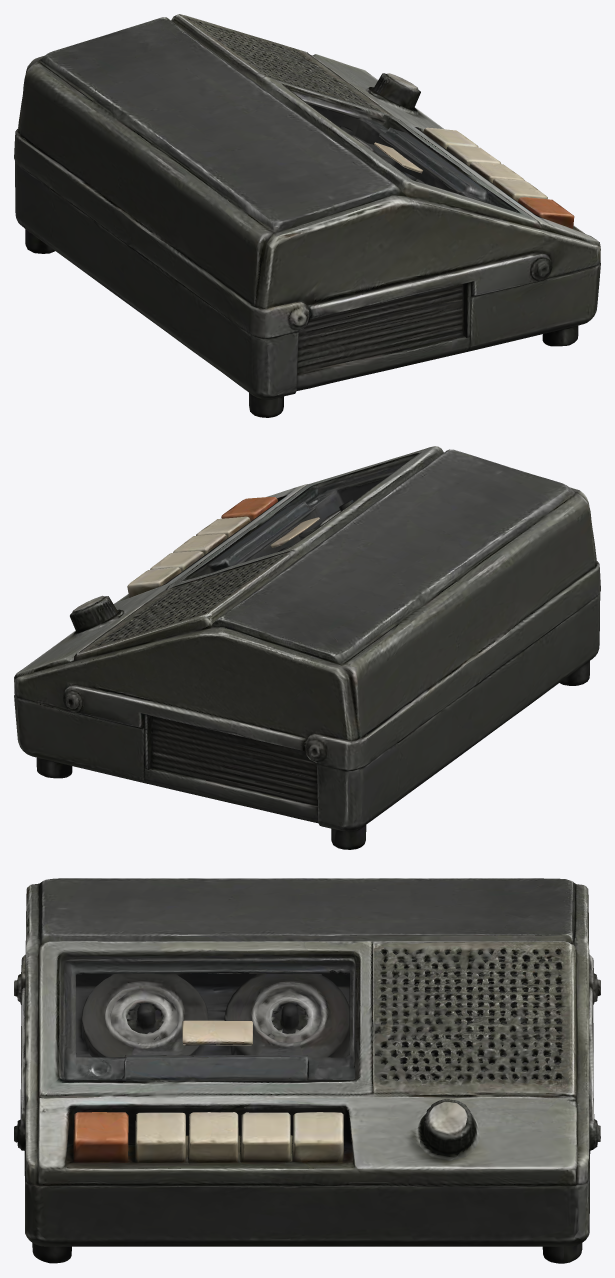
The model's file is recorder.glb.
3 views of the same model, one above another, from view 1: azimuth 30°, elevation 25°; view 2: azimuth 150°, elevation 25°; view 3: azimuth 270°, elevation 25° (orthographic). The views are drawn at different scales.
Visible parts, largest first — view 1: tripo_node_3d7a3ac8-d1f9-4913-b00e-07ba1600a87f; view 2: tripo_node_3d7a3ac8-d1f9-4913-b00e-07ba1600a87f; view 3: tripo_node_3d7a3ac8-d1f9-4913-b00e-07ba1600a87f.
Part boxes in pixels (x1,y1,x2,y2): tripo_node_3d7a3ac8-d1f9-4913-b00e-07ba1600a87f: (14,14,600,417); tripo_node_3d7a3ac8-d1f9-4913-b00e-07ba1600a87f: (14,446,600,849); tripo_node_3d7a3ac8-d1f9-4913-b00e-07ba1600a87f: (14,878,600,1263).
Size of the model in its own units: 0.771 by 0.4177 by 0.9783.
Materials: 1 (1 with a texture image).
